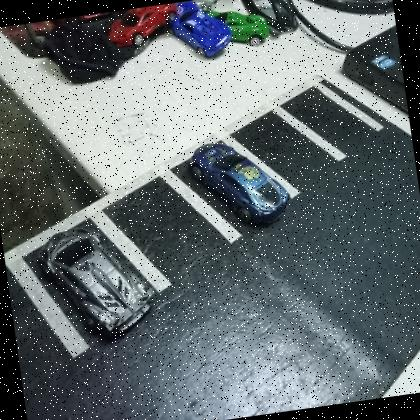Car: (34, 218, 160, 345), (186, 131, 294, 235)
